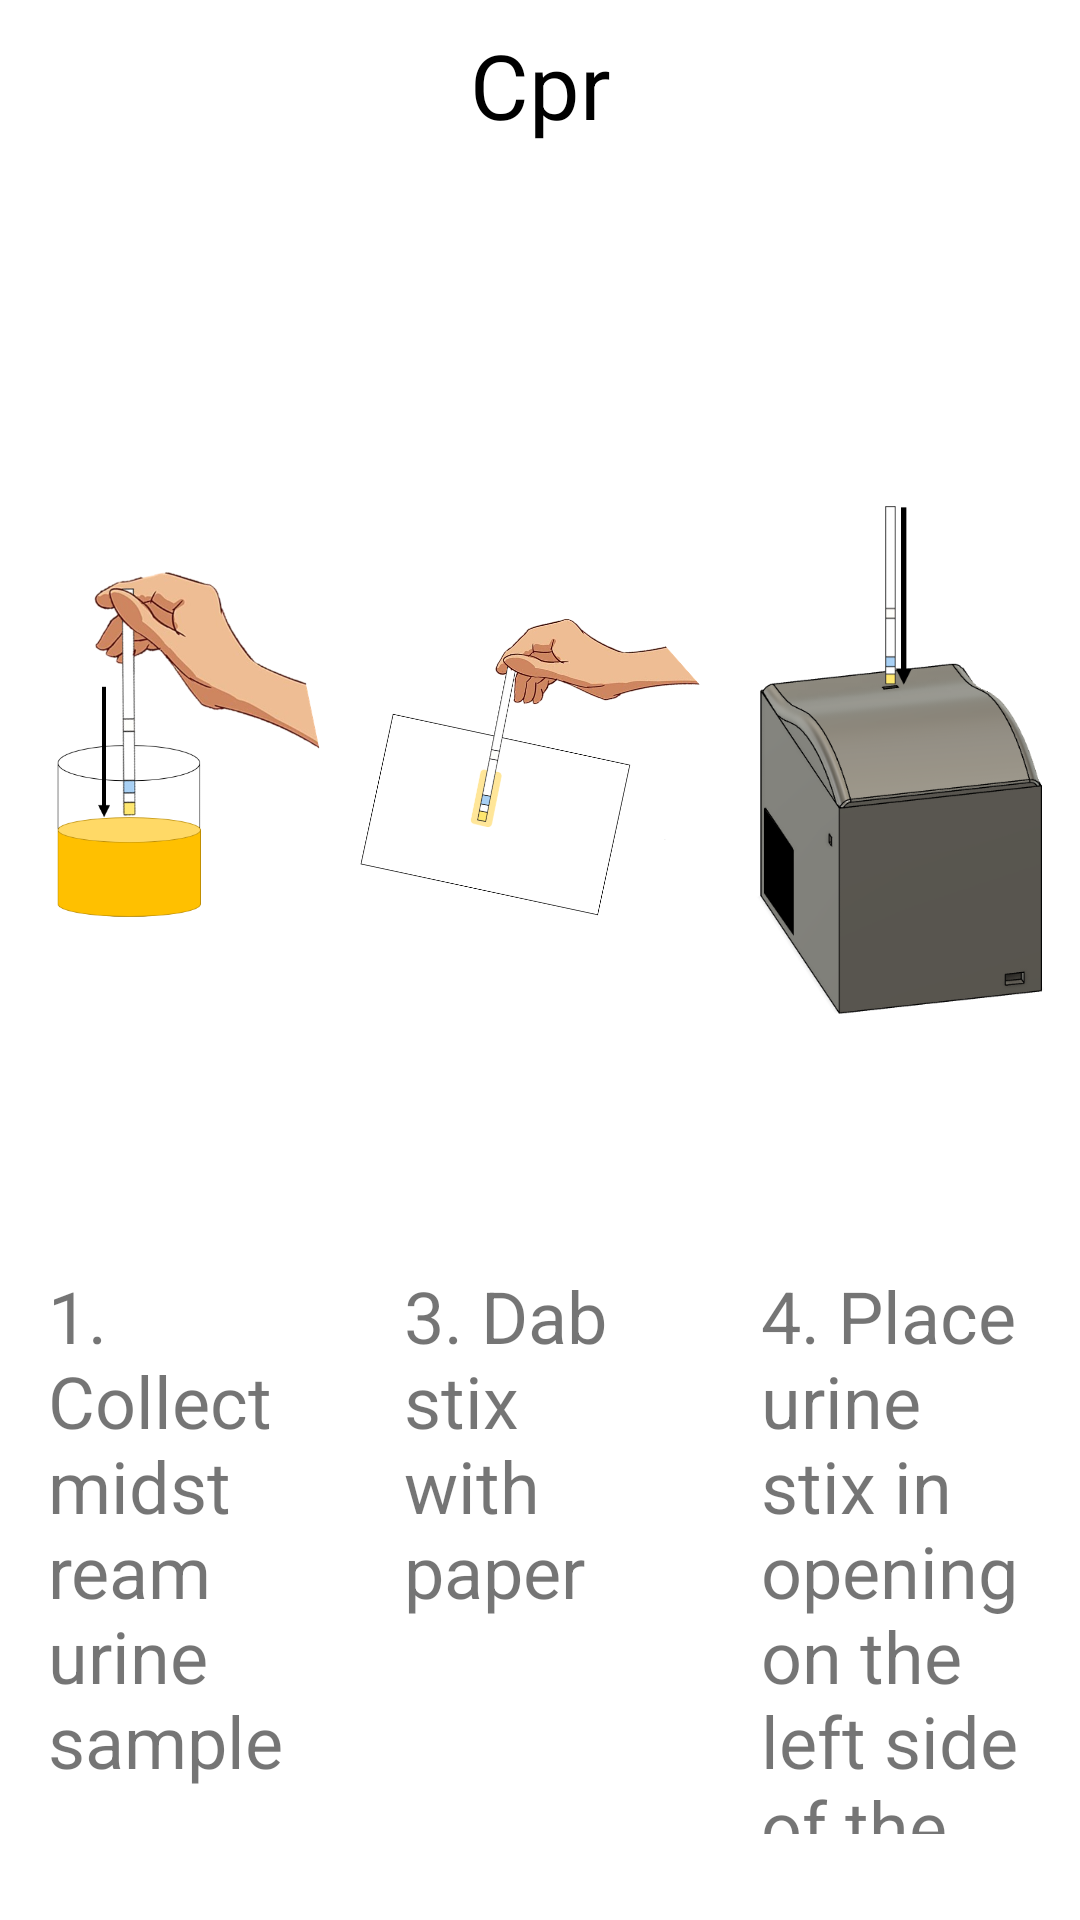

Where to tap for icons on this 1080*1920 app screen, as point (x, y):
dubstix: point (530, 767)
dypurin: point (188, 744)
